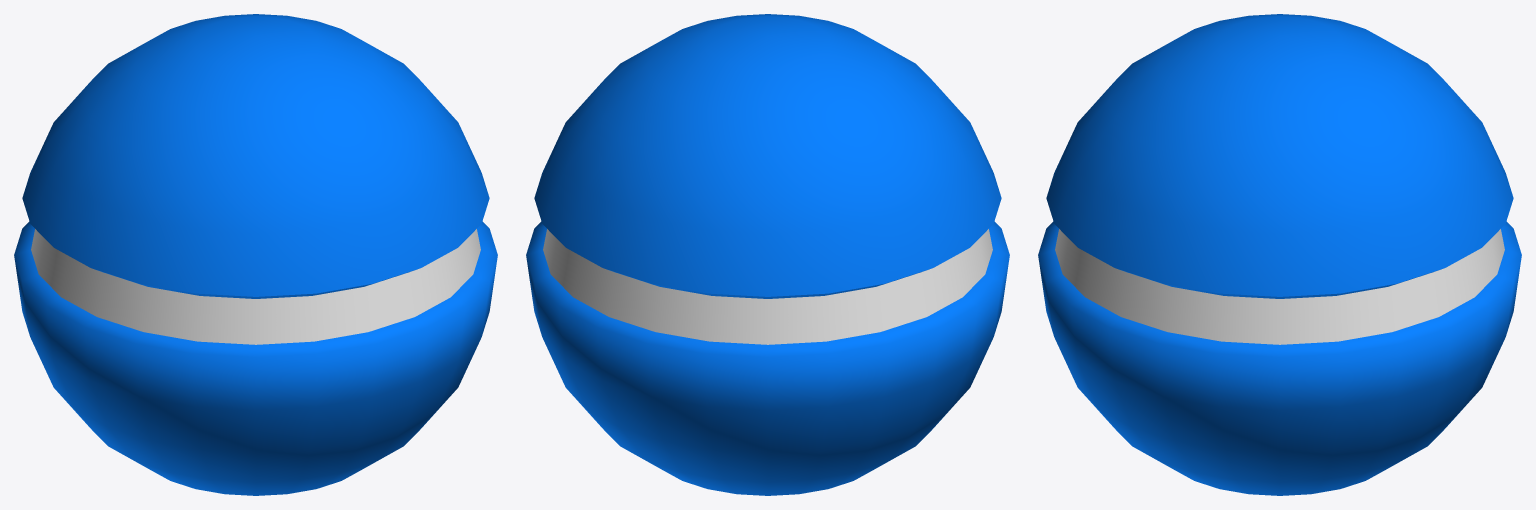
The model's file is ball.fbx.
The picture shows the model from 3 angles, left to right: view 1: azimuth 30°, elevation 25°; view 2: azimuth 150°, elevation 25°; view 3: azimuth 270°, elevation 25°; orthographic projection.
Visible parts, largest first — view 1: Sphere, Sphere_ring; view 2: Sphere, Sphere_ring; view 3: Sphere, Sphere_ring.
Boxes of the visible parts, x1=… form: Sphere: x1=14, y1=14, x2=497, y2=495; Sphere_ring: x1=31, y1=229, x2=480, y2=344; Sphere: x1=526, y1=14, x2=1009, y2=495; Sphere_ring: x1=543, y1=229, x2=992, y2=344; Sphere: x1=1038, y1=14, x2=1521, y2=495; Sphere_ring: x1=1055, y1=229, x2=1504, y2=344.
Bounding box in the file's own units: 20 × 20 × 20.
